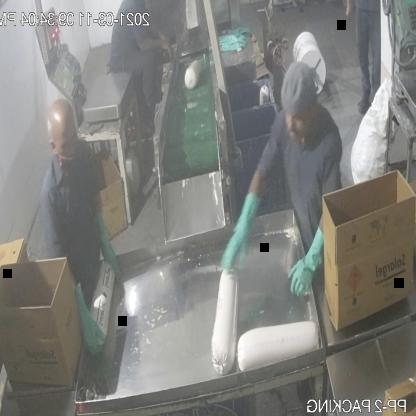glove: (208, 184, 268, 281), (69, 280, 111, 356), (284, 224, 325, 301), (88, 210, 126, 280)
no_glove: (131, 28, 179, 59)
